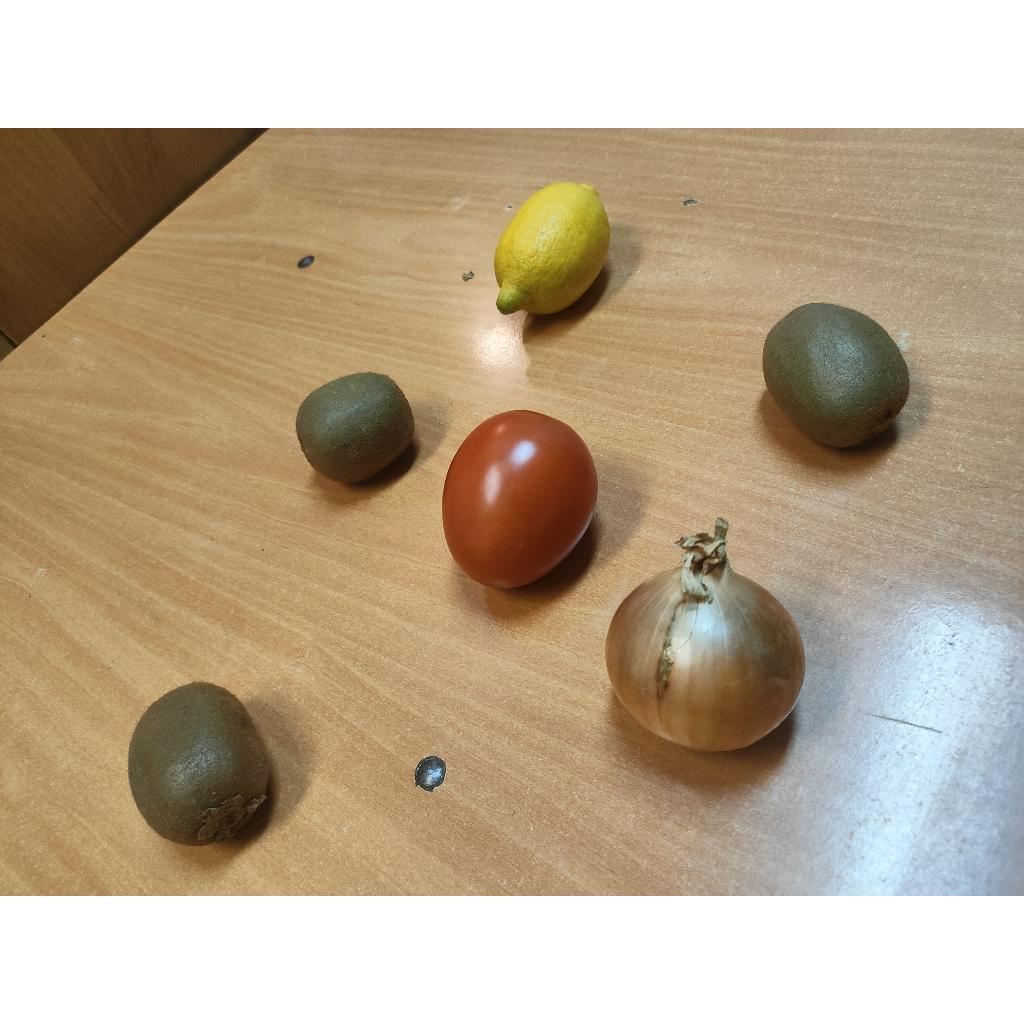kiwi: (762, 304, 910, 446), (296, 372, 414, 482)
lemon: (494, 182, 610, 314)
tomato: (442, 410, 598, 588)
